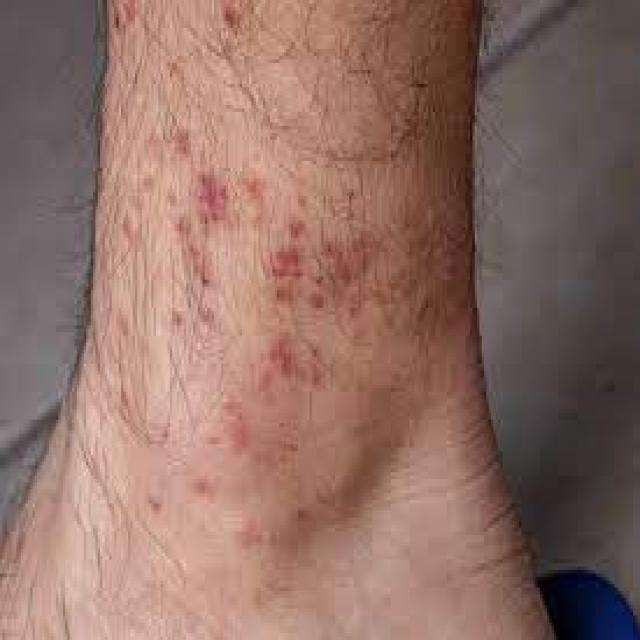kan emici bocekler: (217, 396, 264, 467), (270, 233, 309, 308), (268, 331, 301, 400), (198, 177, 235, 229), (326, 240, 358, 292), (347, 231, 380, 277), (311, 346, 331, 394), (176, 135, 200, 173), (287, 219, 311, 250)
